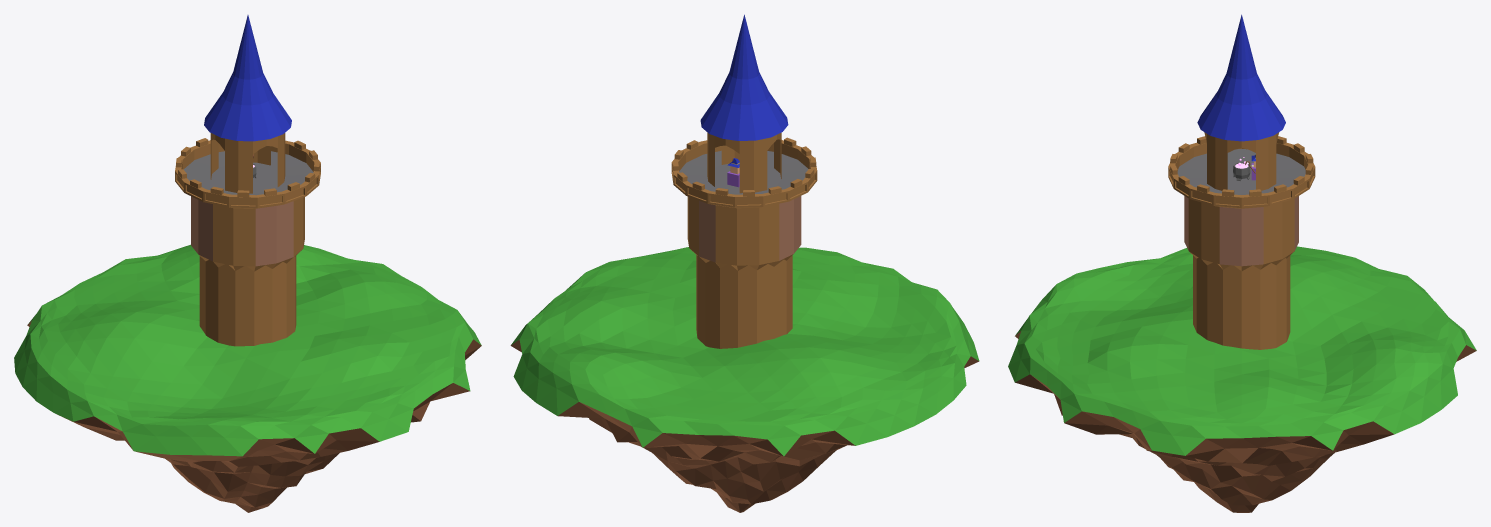
File: WizardTower.glb
3 renders of one model, left to right at view 1: azimuth 30°, elevation 25°; view 2: azimuth 150°, elevation 25°; view 3: azimuth 270°, elevation 25°, orthographic.
Visible parts, largest first — view 1: Island, Tower; view 2: Island, Tower; view 3: Island, Tower.
Part boxes in pixels (x1,y1,x2,y2): Island: [14, 244, 481, 512]; Tower: [175, 15, 320, 346]; Island: [510, 247, 979, 512]; Tower: [671, 14, 817, 348]; Island: [1008, 246, 1476, 512]; Tower: [1168, 14, 1315, 349].
Size of the model in its own units: 4.04 by 4.82 by 4.1.
